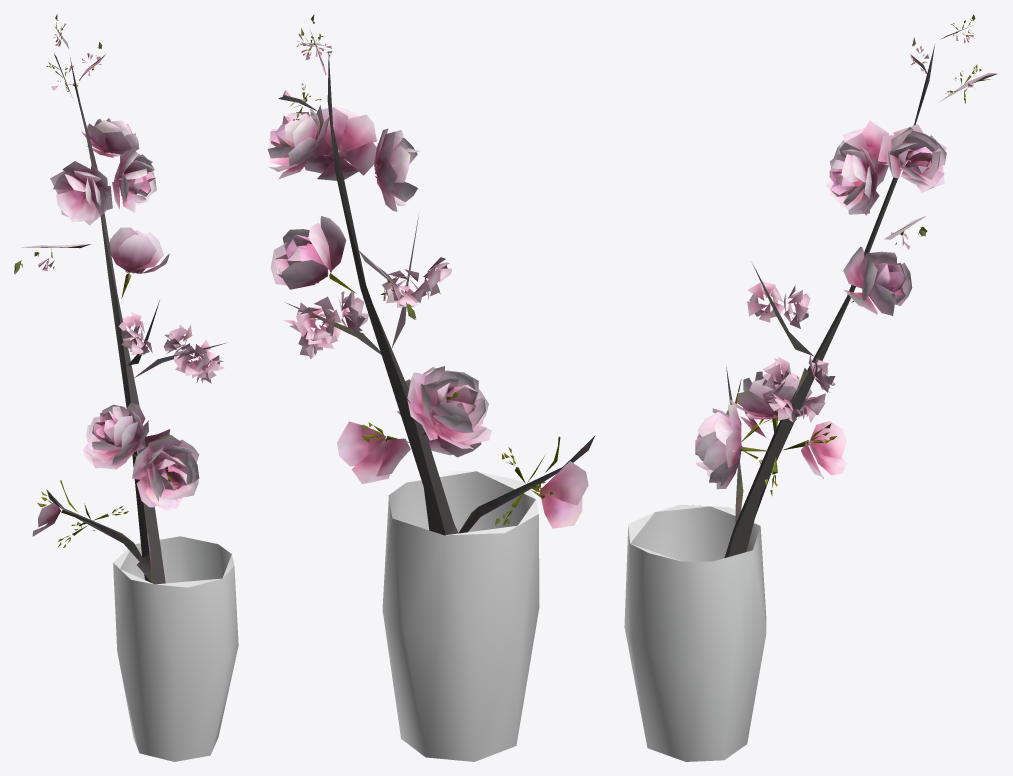
Rendered from Vase0013.obj.
The picture shows the model from 3 angles, left to right: view 1: azimuth 30°, elevation 25°; view 2: azimuth 150°, elevation 25°; view 3: azimuth 270°, elevation 25°; orthographic projection. The views are drawn at different scales.
Size of the model in its own units: 0.147 by 0.419 by 0.195.
1 material, 1 textured.
